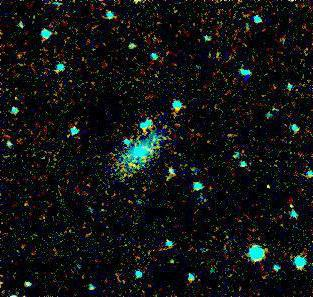star: (252, 173, 282, 203)
